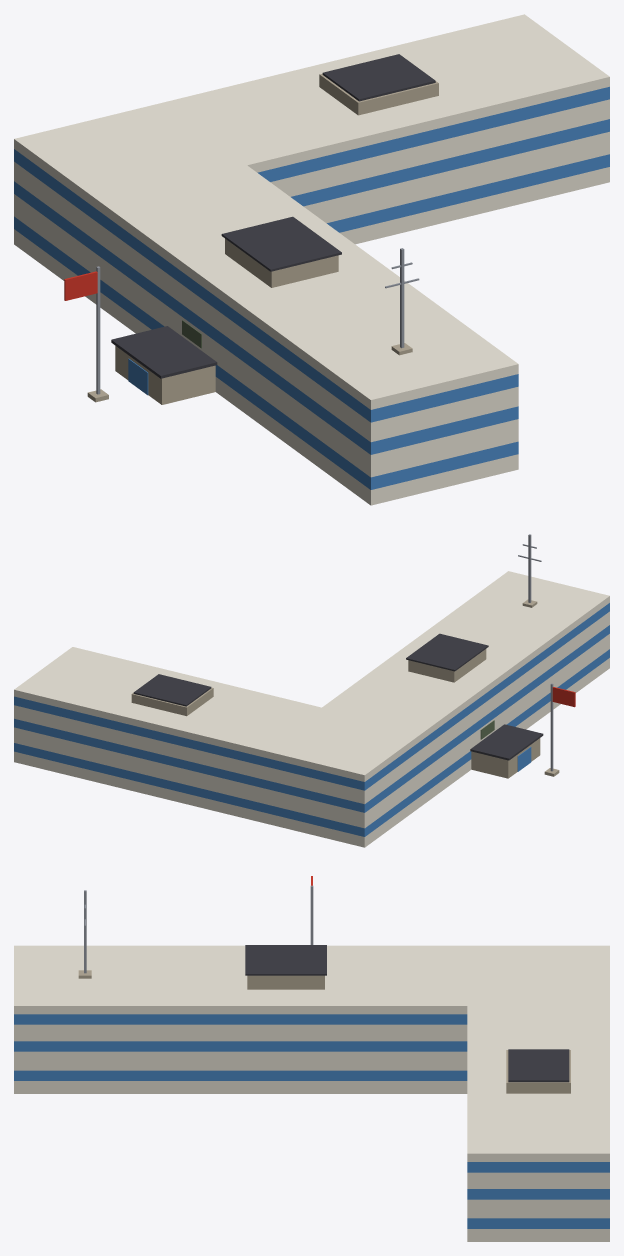
File: Kit_Headquarters.glb
The picture shows the model from 3 angles, top to bottom: view 1: azimuth 30°, elevation 25°; view 2: azimuth 150°, elevation 25°; view 3: azimuth 270°, elevation 25°; orthographic projection. The views are drawn at different scales.
Parts seen in each view (by area): view 1: Kit_Headquarters; view 2: Kit_Headquarters; view 3: Kit_Headquarters.
Part boxes in pixels (bbox=[...]): Kit_Headquarters: bbox=[14, 14, 609, 505]; Kit_Headquarters: bbox=[14, 534, 609, 847]; Kit_Headquarters: bbox=[14, 876, 609, 1241].
Bounding box in the file's own units: 95 × 29.5 × 92.
